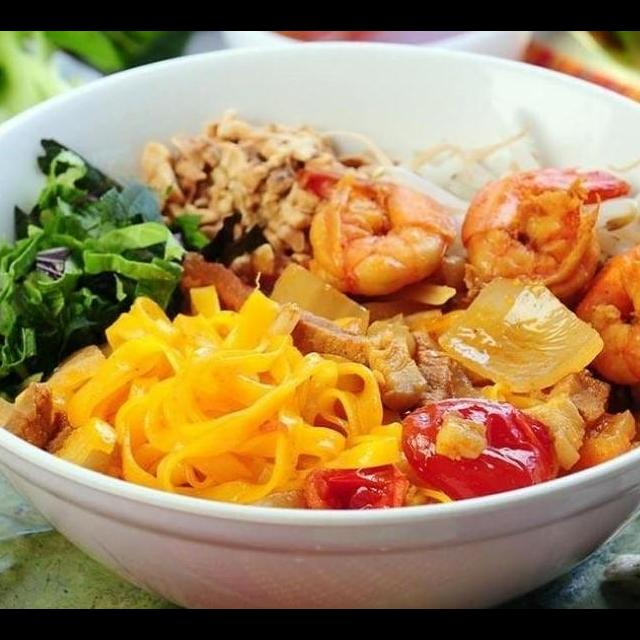mi: (26, 280, 410, 513)
tom: (455, 162, 635, 315), (292, 164, 458, 303), (560, 213, 640, 389)
